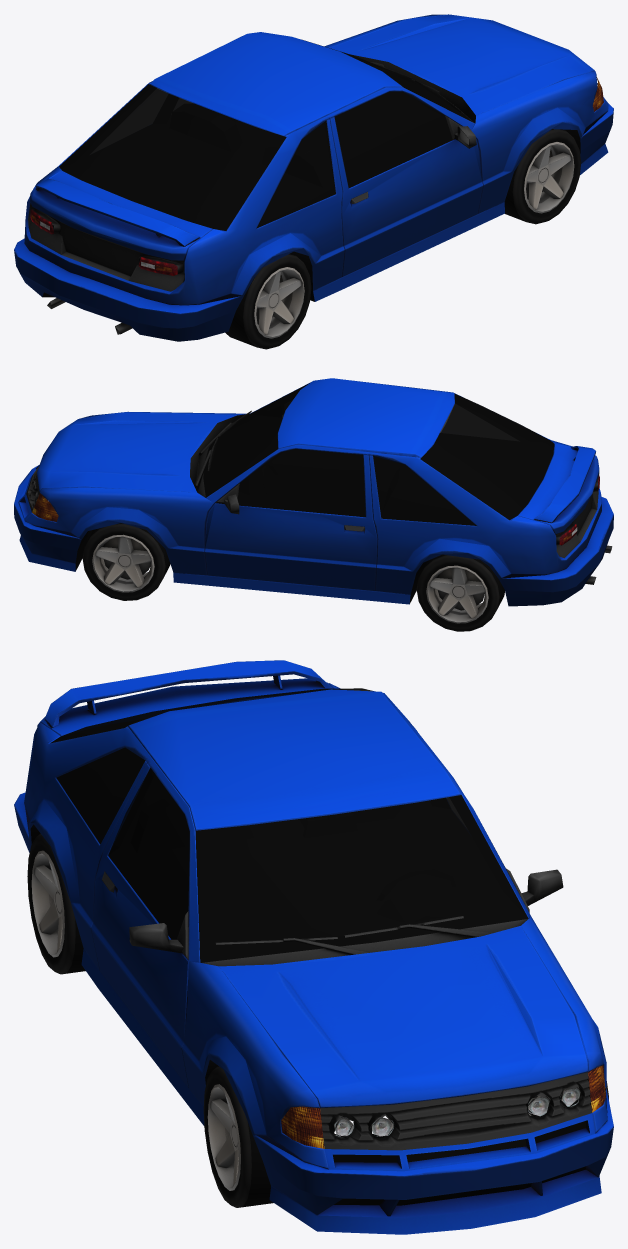
The model's file is generico-coupe.glb.
3 renders of one model, top to bottom at view 1: azimuth 30°, elevation 25°; view 2: azimuth 150°, elevation 25°; view 3: azimuth 270°, elevation 25°, orthographic. The views are drawn at different scales.
Parts seen in each view (by area): view 1: Coupe Body, Wheel_F003, Wheel_F002; view 2: Coupe Body, Wheel_F001, Wheel_F; view 3: Coupe Body, Wheel_F002, Wheel_F003.
Part boxes in pixels (x1,y1,x2,y2): Coupe Body: (14, 14, 613, 341); Wheel_F003: (225, 253, 311, 349); Wheel_F002: (504, 129, 581, 224); Coupe Body: (14, 378, 613, 606); Wheel_F001: (416, 554, 504, 631); Wheel_F: (82, 523, 170, 600); Coupe Body: (14, 660, 613, 1234); Wheel_F002: (203, 1066, 273, 1207); Wheel_F003: (27, 833, 85, 974).
Bounding box in the file's own units: 4.2 × 1.27 × 2.5.
Materials: 4 (3 with a texture image).
